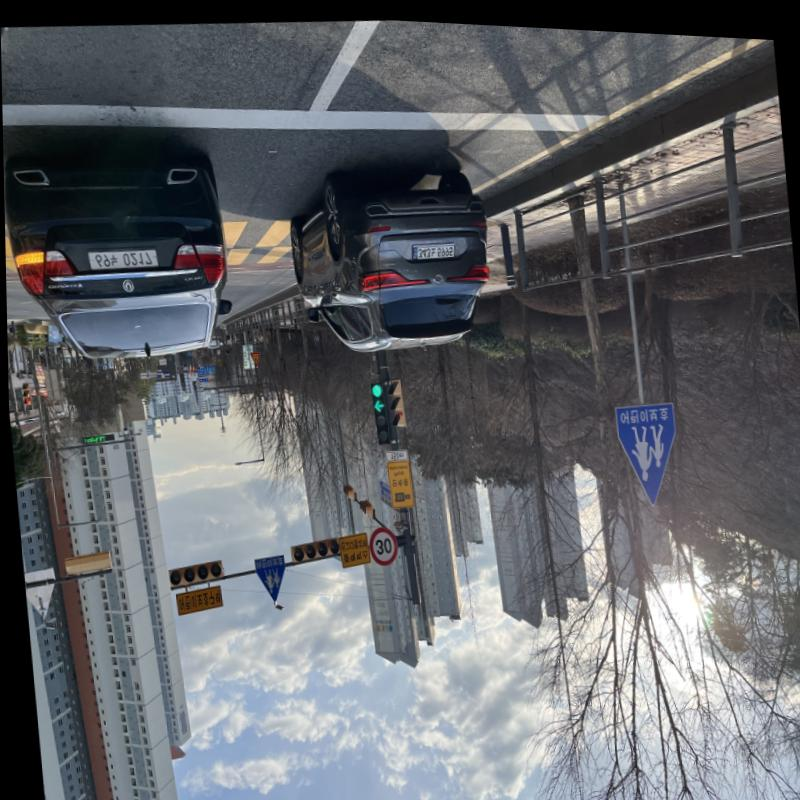green: (369, 380, 381, 393)
left: (371, 394, 383, 409)
